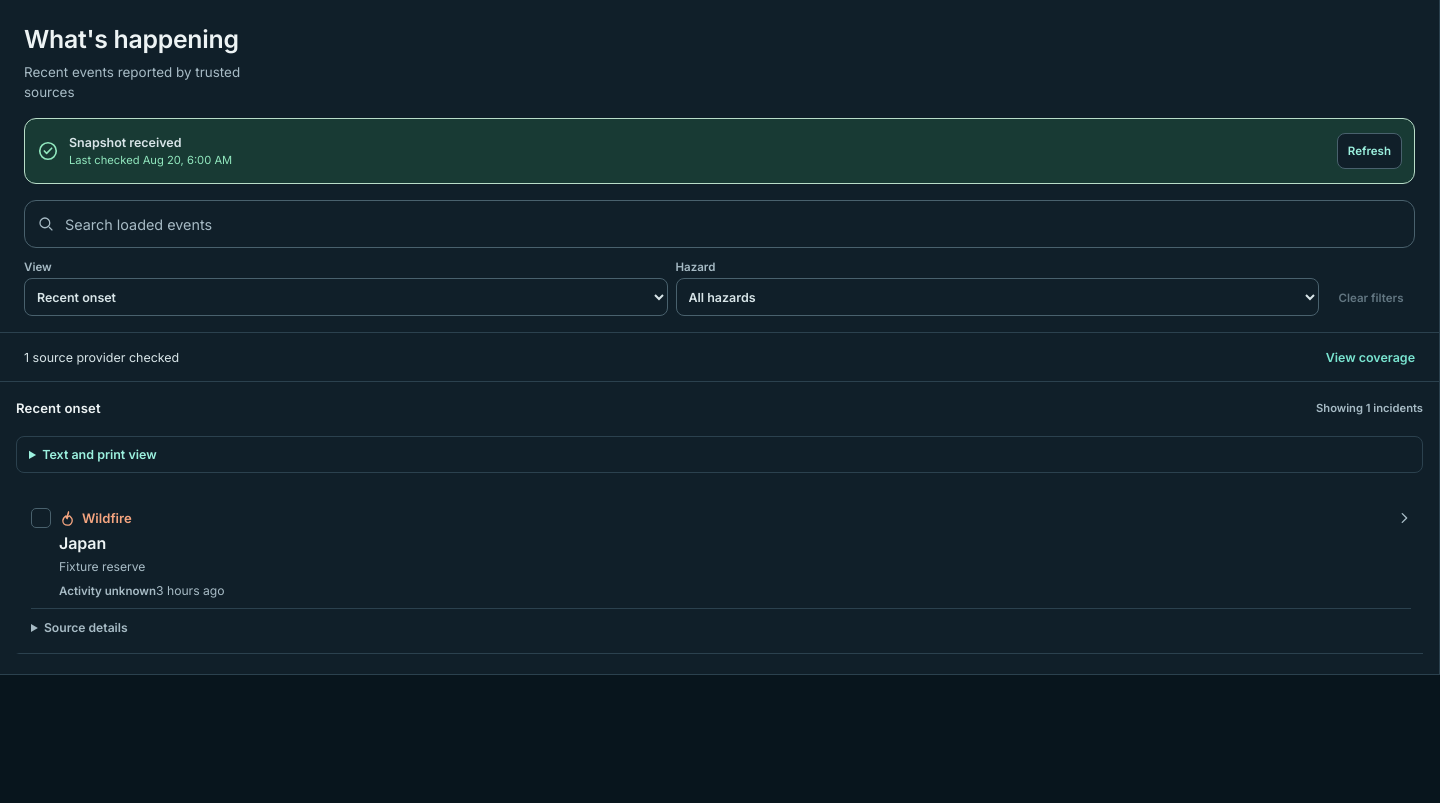
ActiveIncidentsPanel › summarizes source coverage before revealing provider detail
expect the text "1 source provider checked" is shown: met, box x1=24 y1=350 x2=179 y2=365
Click the text "View coverage" at [1370, 357], box x1=1326 y1=350 x2=1415 y2=365
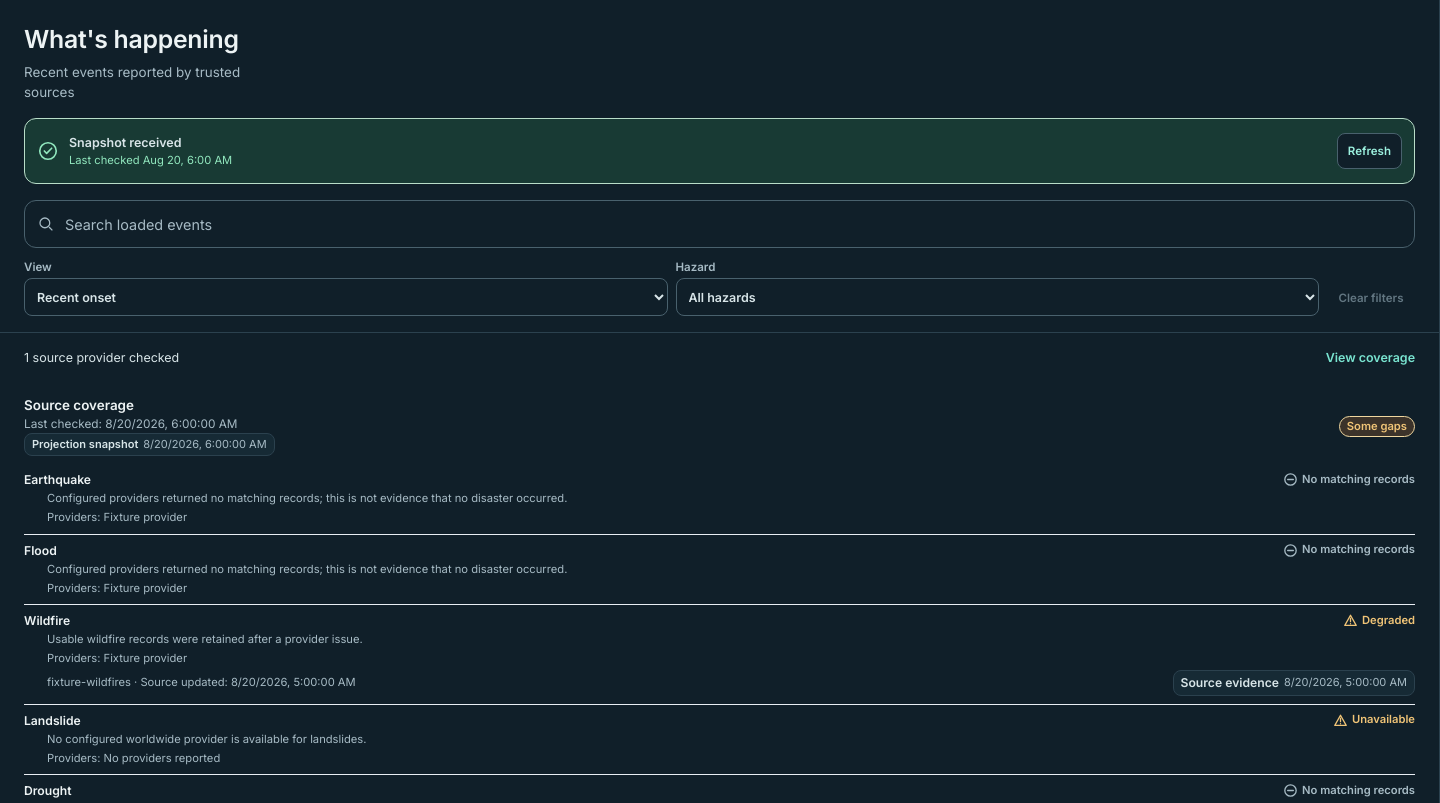
expect the element with test id "incident-coverage" that starts with "Earthquake" is shown: met, box x1=24 y1=464 x2=1415 y2=534
